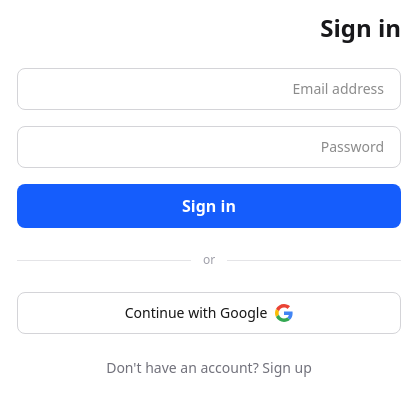
it: AuthForm › switches back to sign-in mode from sign-up
Click the button "Don't have an account? Sign up" at (209, 368), box [17,358,401,378]
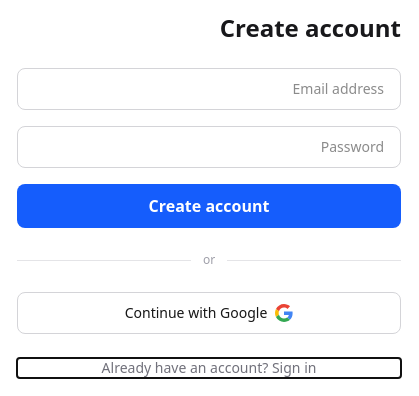
Click the button "Already have an account? Sign in" at (209, 368), box [17,358,401,378]
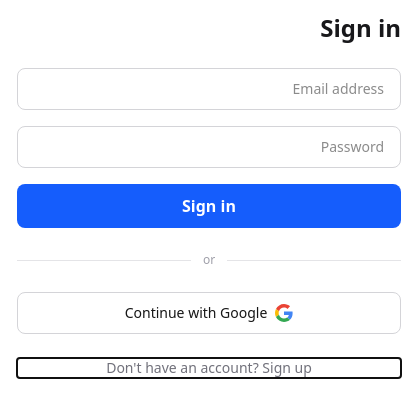
Expected: the heading "Sign in" is shown, [320,11,401,44]
